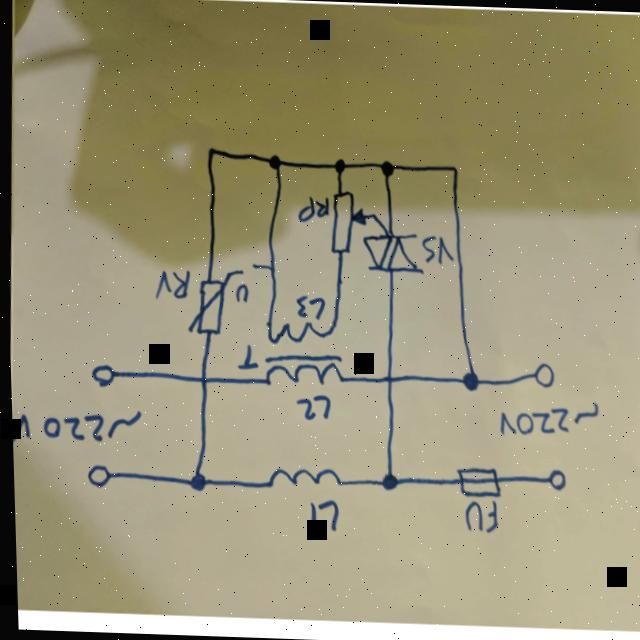crossover: (376, 363, 397, 388), (190, 368, 210, 392)
inductor: (259, 461, 340, 494)
junction: (457, 368, 477, 393), (375, 470, 395, 492), (183, 470, 203, 492), (376, 156, 395, 179), (331, 156, 347, 177), (265, 151, 281, 172), (202, 139, 218, 160), (448, 162, 461, 178)
resistor: (328, 189, 365, 256)
terminal: (81, 460, 109, 493), (86, 358, 114, 391), (529, 360, 555, 391), (540, 467, 564, 492)
text: (9, 403, 138, 450), (492, 396, 598, 440), (151, 264, 191, 302), (459, 494, 495, 534), (301, 498, 337, 534), (417, 234, 453, 266), (294, 193, 330, 224), (291, 395, 328, 422), (291, 292, 325, 320), (232, 342, 256, 370)
transformer: (255, 312, 346, 391)
